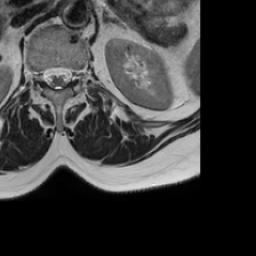CCS_normal: (52, 57, 62, 98)
LFS_normal: (72, 58, 81, 91)
LLS_normal: (62, 57, 72, 92)
RFS_normal: (33, 59, 42, 90)
RLS_normal: (42, 58, 52, 92)
